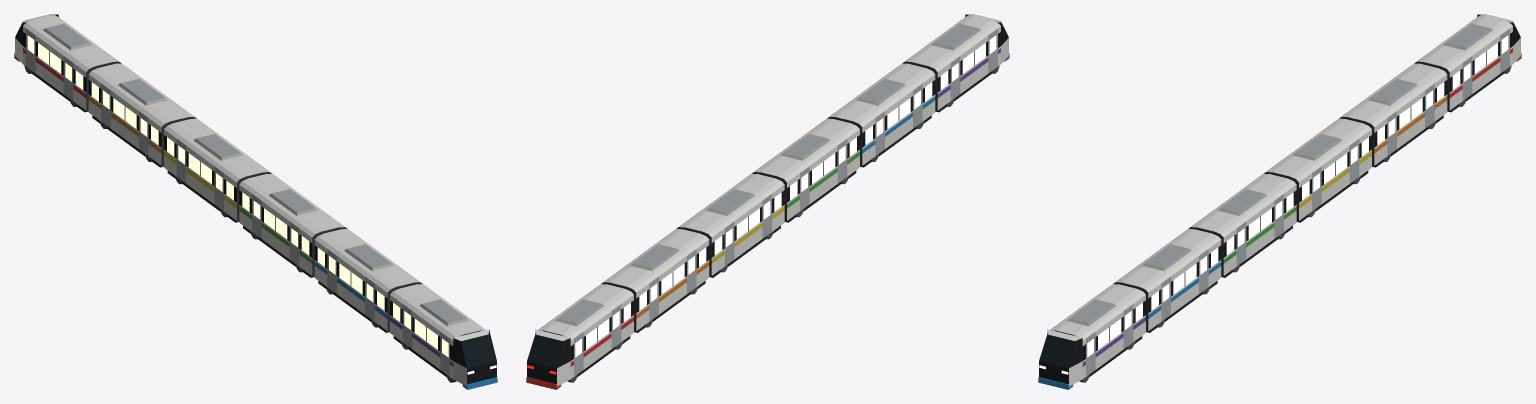
File: tokyo_yurikamome_train.glb
3 views of the same model, side by side, from view 1: azimuth 30°, elevation 25°; view 2: azimuth 150°, elevation 25°; view 3: azimuth 330°, elevation 25° (orthographic).
Visible parts, largest first — view 1: tokyo_yurikamome_train; view 2: tokyo_yurikamome_train; view 3: tokyo_yurikamome_train.
Boxes of the visible parts, x1,y1,x2,y2 form: tokyo_yurikamome_train: (14,14,497,389); tokyo_yurikamome_train: (526,14,1009,389); tokyo_yurikamome_train: (1038,14,1521,389).
Bounding box in the file's own units: 2.47 × 3.34 × 54.12.
1 material, 1 textured.
